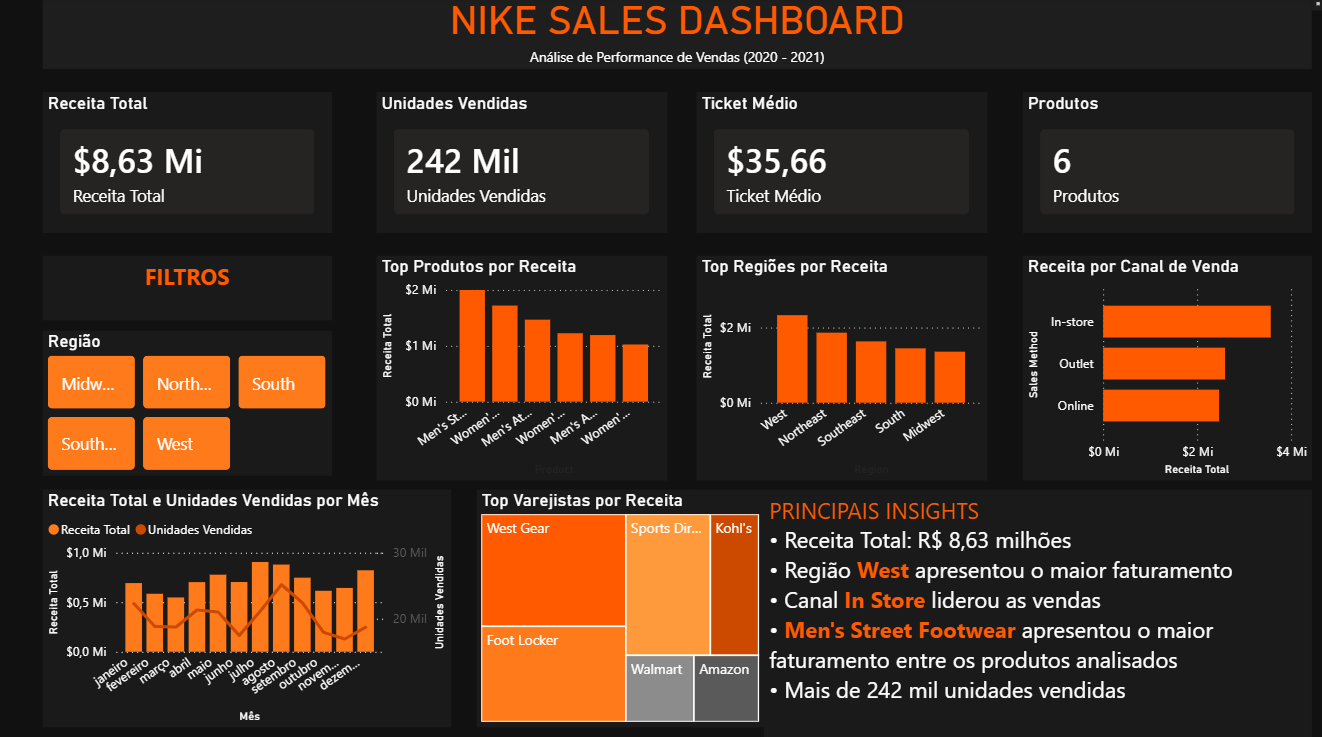

What the dashboard file says about the page in this screenshot:
{"tool":"powerbi","page":{"name":"Página 1","canvas":[1280,720],"ordinal":0},"visuals":[{"type":"cardVisual","title":"Unidades Vendidas","fields":{"Data":["Nike Dataset.Quantidade Vendida"]},"box":[364.3,92.1,280.6,136.1],"z":0},{"type":"cardVisual","title":"Ticket Médio","fields":{"Data":["Nike Dataset.Ticket Médio"]},"box":[673.2,92.1,280.6,136.1],"z":1000},{"type":"cardVisual","title":"Produtos","fields":{"Data":["Nike Dataset.Produtos Distintos"]},"box":[987.9,92.1,279.2,136.1],"z":2000},{"type":"lineClusteredColumnComboChart","title":"Top Produtos por Receita","fields":{"Category":["Nike Dataset.Product"],"Y":["Nike Dataset.Receita Total"]},"box":[364.3,249.4,280.6,216.9],"z":3000},{"type":"lineClusteredColumnComboChart","title":"Top Regiões por Receita","fields":{"Category":["Nike Dataset.Region"],"Y":["Nike Dataset.Receita Total"]},"box":[673.2,249.4,280.6,216.9],"z":4000},{"type":"clusteredBarChart","title":"Receita por Canal de Venda","fields":{"Category":["Nike Dataset.Sales Method"],"Y":["Nike Dataset.Receita Total"]},"box":[987.9,249.4,279.2,216.9],"z":5000},{"type":"textbox","title":"NIKE SALES DASHBOARD","box":[42.5,0,1224.6,69.4],"z":6000},{"type":"textbox","box":[1267.1,0,12.8,12.8],"z":7000},{"type":"textbox","box":[738.4,474.8,528.7,245.2],"z":8000},{"type":"cardVisual","title":"Receita Total","fields":{"Data":["Nike Dataset.Receita Total"]},"box":[42.5,92.1,279.2,136.1],"z":9000},{"type":"treemap","title":"Top Varejistas por Receita","fields":{"Group":["Nike Dataset.Retailer"],"Values":["Nike Dataset.Receita Total"]},"box":[447.9,474.8,277.8,229.6],"z":10000},{"type":"advancedSlicerVisual","title":"Região","fields":{"Values":["Nike Dataset.Region"]},"box":[42.5,321.7,279.2,140.3],"z":11000},{"type":"textbox","box":[42.5,249.4,279.2,62.4],"z":13000},{"type":"lineClusteredColumnComboChart","fields":{"Category":["Nike Dataset.Invoice Date.Variation.Hierarquia de datas.Mês"],"Y":["Nike Dataset.Receita Total"],"Y2":["Nike Dataset.Unidades Vendidas"]},"box":[42.5,474.8,394,229.6],"z":13001}]}

Visuals, with their boxes in screenshot pixels (x1, y1, x2, y2), scaled from the page's 1280x720 canvas onto the 1322x737 screenshot:
"Unidades Vendidas" cardVisual: 376, 94, 666, 234
"Ticket Médio" cardVisual: 695, 94, 985, 234
"Produtos" cardVisual: 1020, 94, 1309, 234
"Top Produtos por Receita" lineClusteredColumnComboChart: 376, 255, 666, 477
"Top Regiões por Receita" lineClusteredColumnComboChart: 695, 255, 985, 477
"Receita por Canal de Venda" clusteredBarChart: 1020, 255, 1309, 477
"NIKE SALES DASHBOARD" textbox: 44, 0, 1309, 71
textbox: 1309, 0, 1321, 13
textbox: 763, 486, 1309, 736
"Receita Total" cardVisual: 44, 94, 332, 234
"Top Varejistas por Receita" treemap: 463, 486, 750, 721
"Região" advancedSlicerVisual: 44, 329, 332, 473
textbox: 44, 255, 332, 319
lineClusteredColumnComboChart - Nike Dataset.Invoice Date.Variation.Hierarquia de datas.Mês x Nike Dataset.Receita Total: 44, 486, 451, 721
